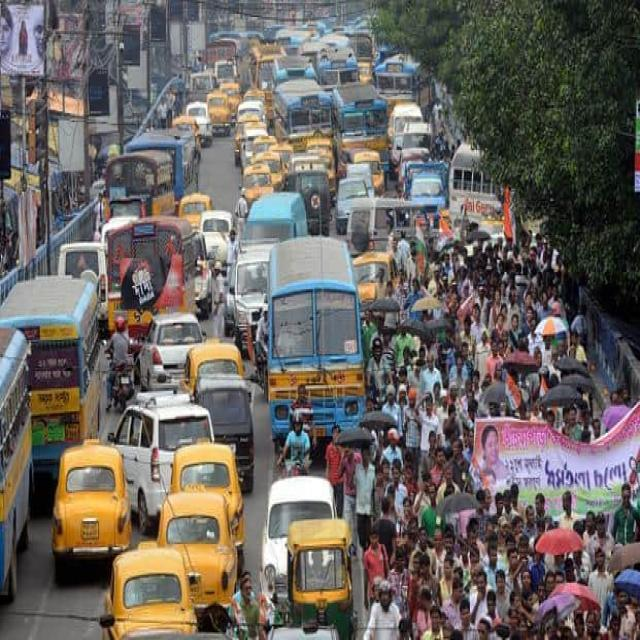autorickshaw: (286, 519, 354, 639)
bus: (268, 236, 365, 445), (0, 277, 99, 475), (106, 216, 196, 337), (0, 326, 32, 599)
car: (110, 394, 214, 527), (51, 439, 131, 582), (158, 491, 238, 607), (100, 544, 196, 639), (260, 476, 336, 596), (171, 443, 244, 554), (198, 375, 251, 492), (139, 313, 202, 390), (231, 244, 273, 352), (58, 242, 106, 331), (182, 339, 243, 395)
